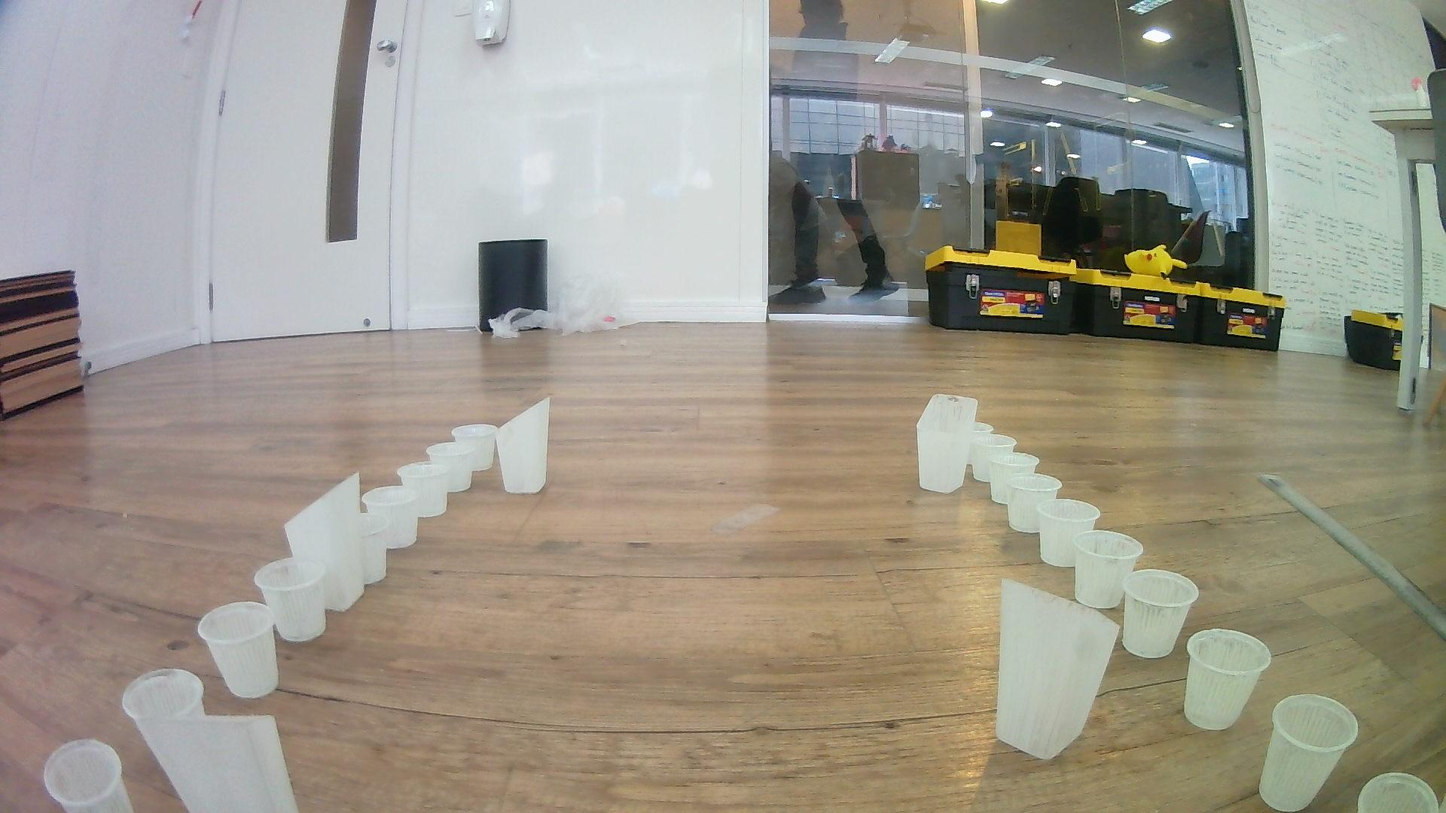erva_daninha: (995, 577, 1119, 760), (139, 713, 299, 813), (282, 470, 365, 613), (915, 394, 979, 495), (496, 396, 552, 495)
planta: (1258, 693, 1360, 813), (1183, 627, 1273, 732), (197, 600, 281, 699), (121, 667, 208, 752), (1121, 568, 1200, 660), (41, 737, 136, 813), (253, 559, 329, 643), (1072, 530, 1145, 610), (1033, 498, 1102, 568), (359, 486, 421, 550), (1356, 772, 1444, 813), (1005, 473, 1063, 535), (396, 461, 449, 519), (989, 452, 1041, 506), (425, 441, 474, 493), (449, 423, 499, 472), (971, 433, 1020, 483), (356, 514, 388, 585), (972, 421, 996, 437)
